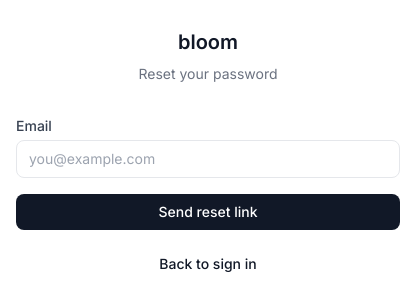
it: ForgotPasswordPage › shows error on failure
The width and height of the screenshot is (417, 307).
In the field labelled "Email": (208, 159) [16,140,400,178], type "test@example.com"
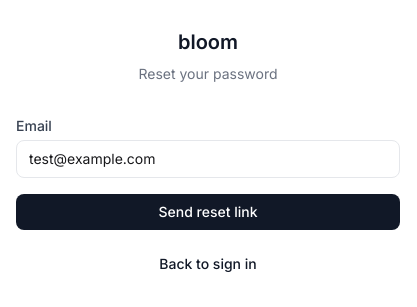
Click the button "Send reset link": click(208, 212) [16,194,400,230]
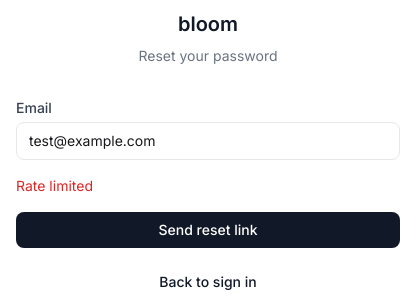
Result: the message reads "Rate limited" at [16,177,93,194]
